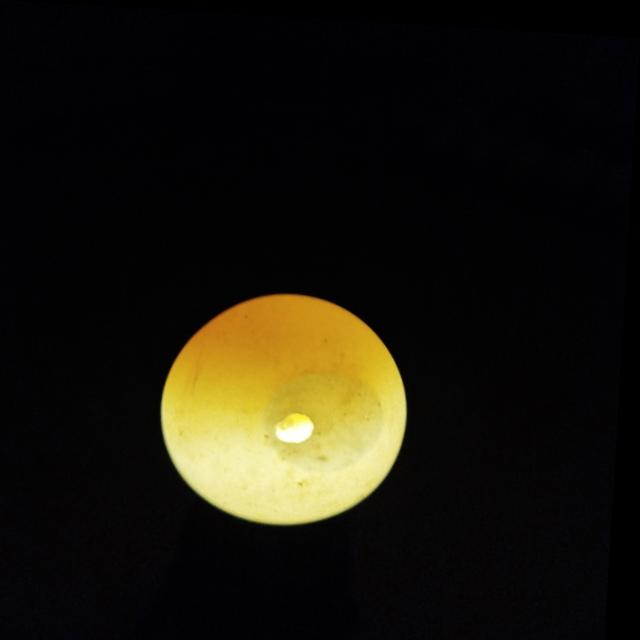Camara de Ar: (268, 369, 386, 469)
